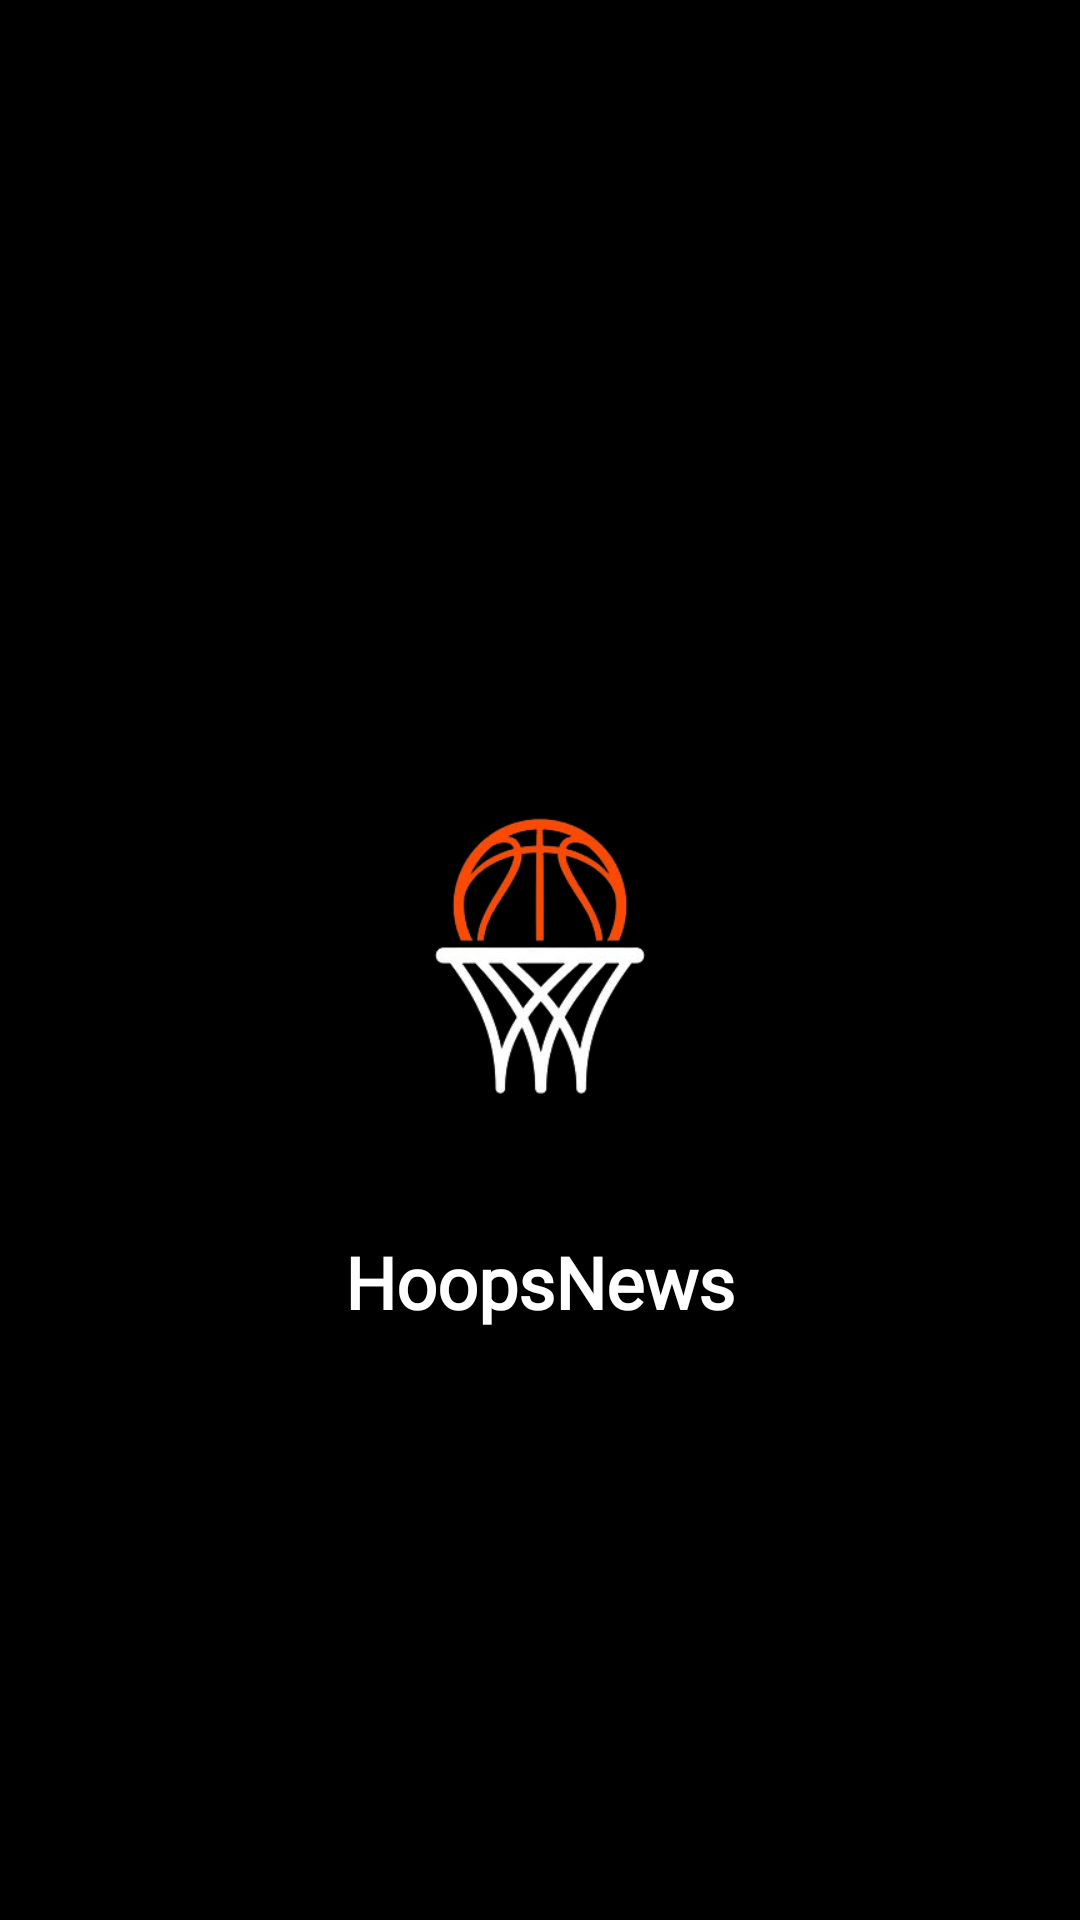

Screen size 1080w x 1920h. Icon name, then its center in pixels as point (x, y):
basketball: point (540, 956)
